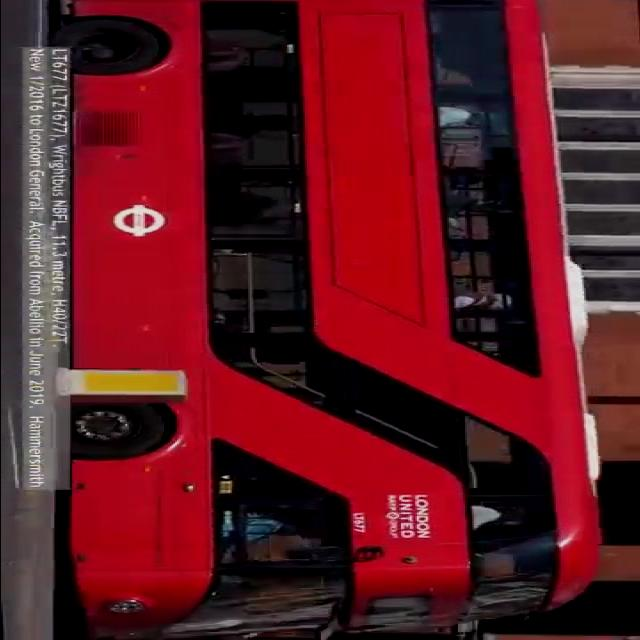bus: (7, 3, 577, 640)
